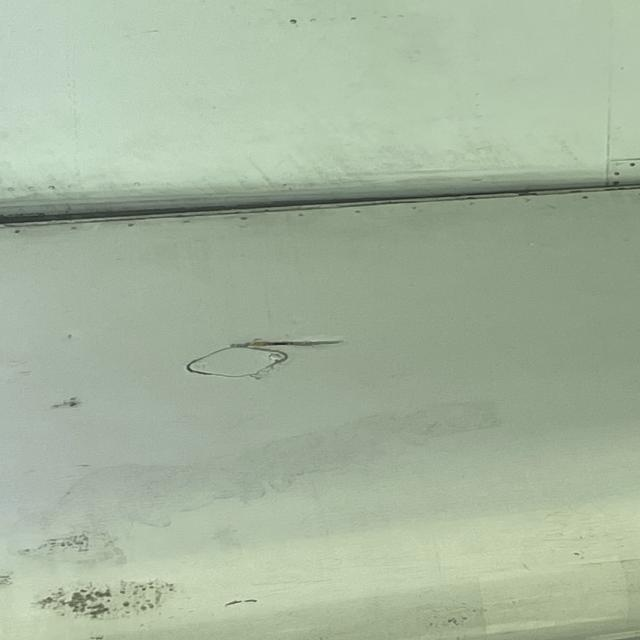crack: (248, 334, 326, 358)
